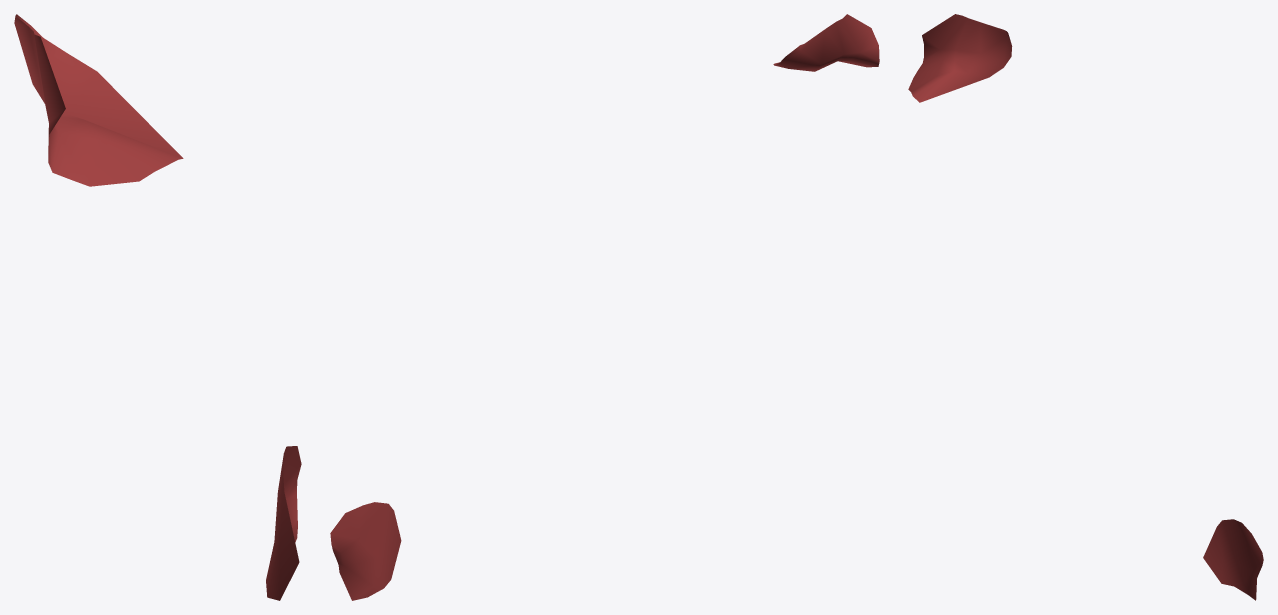
The model's file is longissimus-thoracis-muscle-e1r.glb.
The picture shows the model from 3 angles, left to right: view 1: azimuth 30°, elevation 25°; view 2: azimuth 150°, elevation 25°; view 3: azimuth 270°, elevation 25°; orthographic projection. The views are drawn at different scales.
Parts seen in each view (by area): view 1: Longissimus thoracis muscle.e1r; view 2: Longissimus thoracis muscle.e1r; view 3: Longissimus thoracis muscle.e1r.
Boxes of the visible parts, x1,y1,x2,y2 form: Longissimus thoracis muscle.e1r: (14, 14, 301, 600); Longissimus thoracis muscle.e1r: (330, 14, 879, 600); Longissimus thoracis muscle.e1r: (908, 14, 1263, 600).
Size of the model in its own units: 0.0241 by 0.0352 by 0.0249.
